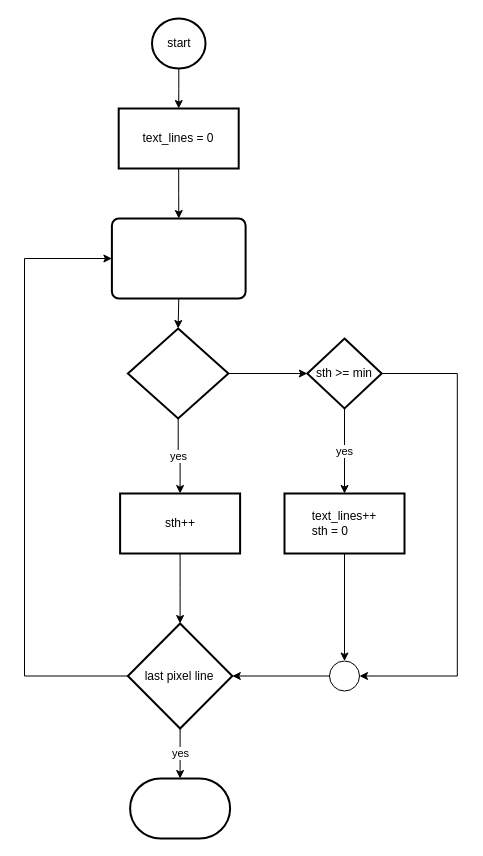
This 483x856 diagram has some shape labels left out. The box of each missing label's shape, as (x1, y1, x2, y2) in pixels:
bp/total >= th: (126, 327, 229, 419)
end: (129, 777, 231, 839)
read next pixel line: bp = count black pixels wp = count white pixels: (110, 217, 246, 299)
